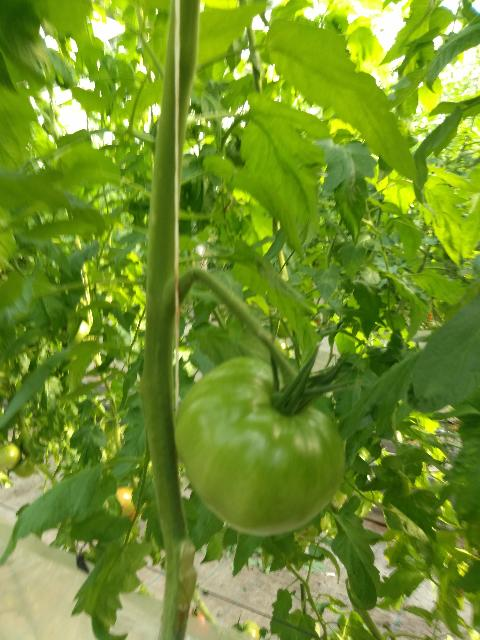b_green: (174, 356, 345, 537), (1, 444, 22, 470), (239, 621, 263, 640), (13, 457, 34, 478)
